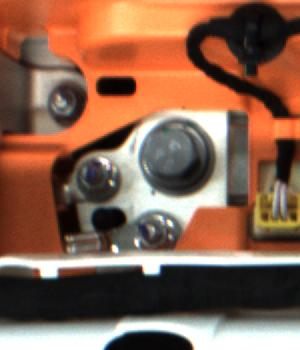nut_b: (138, 123, 211, 194)
screw_s: (40, 82, 85, 123), (74, 159, 121, 195), (129, 213, 174, 249)
